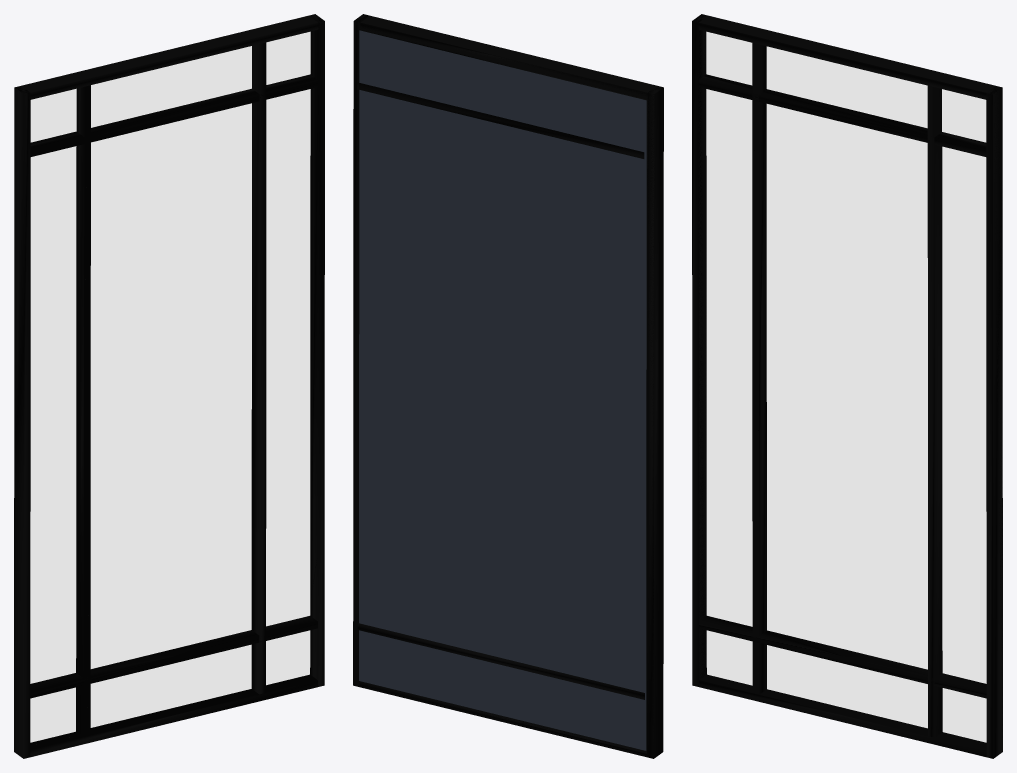
Rendered from nova90x190.glb.
3 renders of one model, left to right at view 1: azimuth 30°, elevation 25°; view 2: azimuth 150°, elevation 25°; view 3: azimuth 330°, elevation 25°, orthographic.
Visible parts, largest first — view 1: Mirror.001, Frame.001; view 2: Frame.001; view 3: Mirror.001, Frame.001.
Part boxes in pixels (bbox=[...]): Mirror.001: bbox=[30, 31, 310, 742]; Frame.001: bbox=[14, 14, 324, 758]; Frame.001: bbox=[353, 14, 663, 758]; Mirror.001: bbox=[706, 31, 986, 742]; Frame.001: bbox=[692, 14, 1002, 758].
Bounding box in the file's own units: 0.9 × 1.9 × 0.066.
